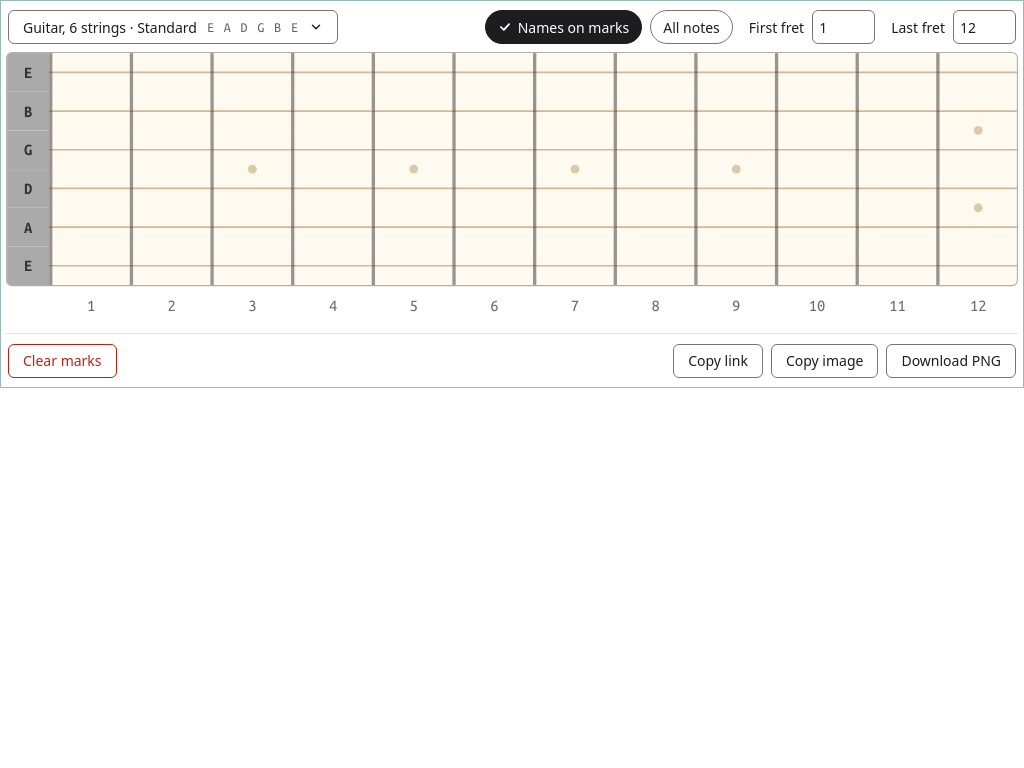
Test: Fretboard › says so when the browser can't copy images
Click the button "Copy image" at (825, 361), box x1=771 y1=344 x2=878 y2=378
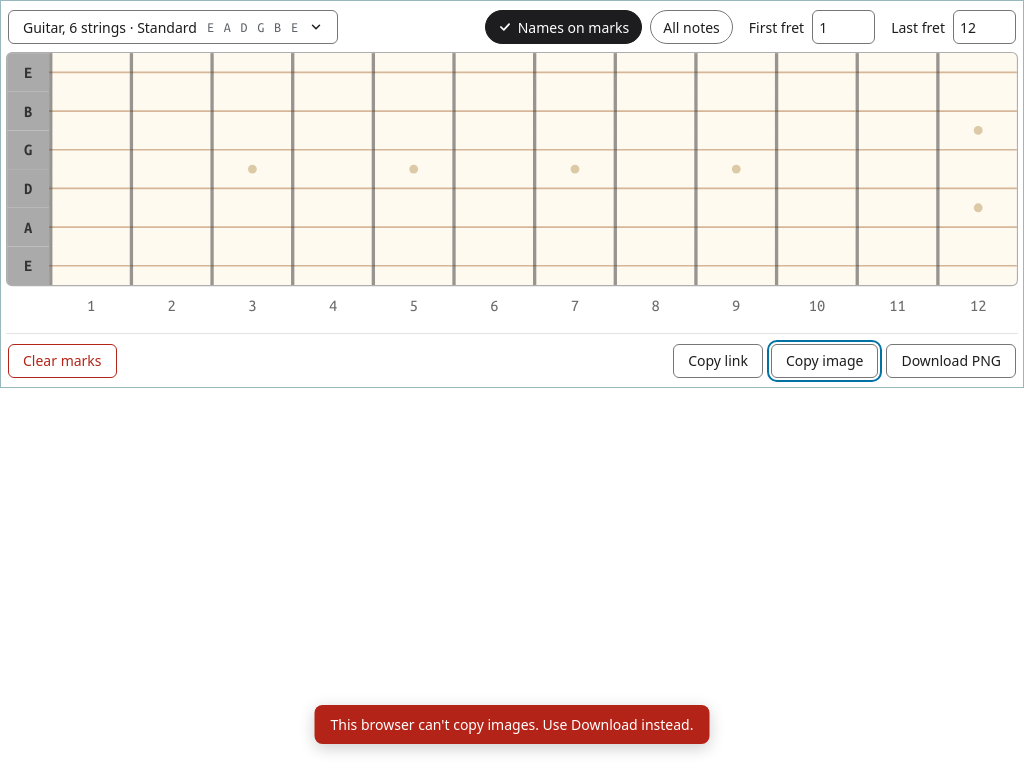
Expected: the message shows "can't copy images", x1=330 y1=715 x2=694 y2=734
